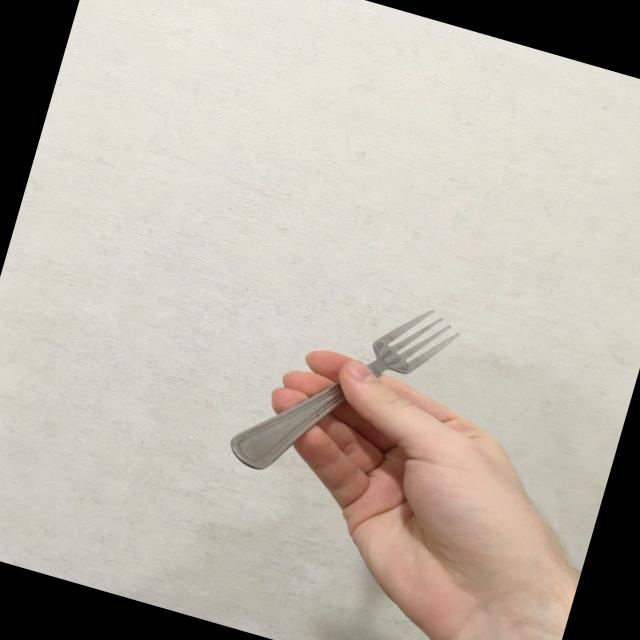fork: (225, 264, 467, 516)
